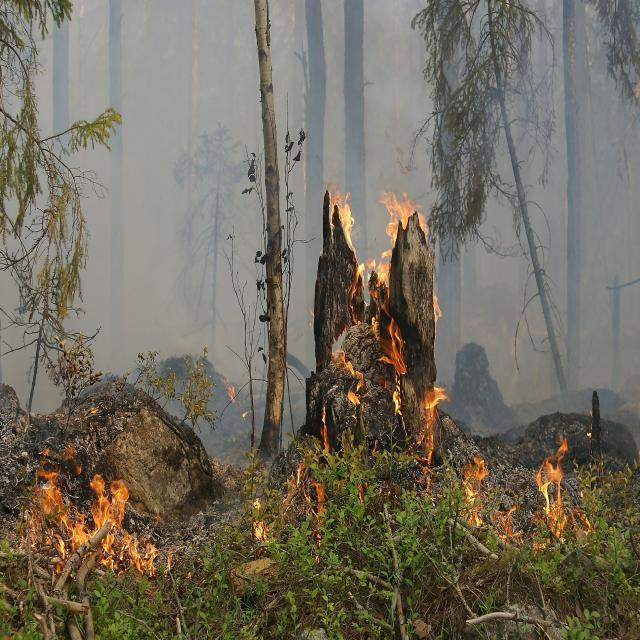Fire: (31, 422, 156, 582), (382, 188, 444, 432), (276, 454, 332, 576), (468, 431, 507, 584), (331, 187, 365, 289), (535, 450, 564, 536), (248, 480, 274, 549)
Smoke: (52, 32, 300, 385), (447, 51, 618, 408)
